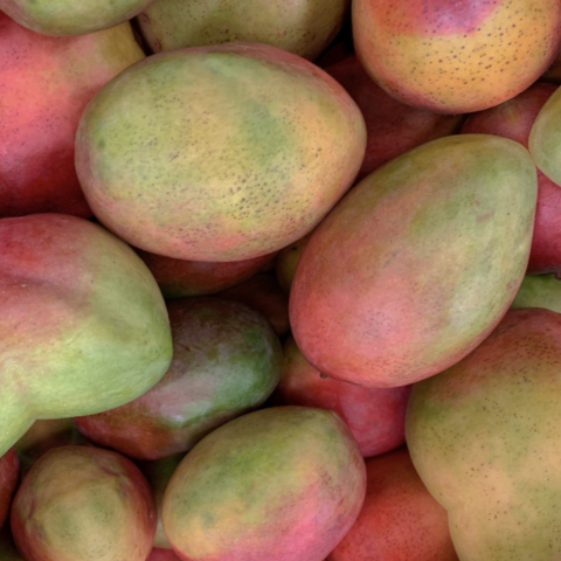mango: (198, 66, 561, 479), (28, 0, 406, 327), (0, 165, 215, 463), (139, 365, 404, 561)
